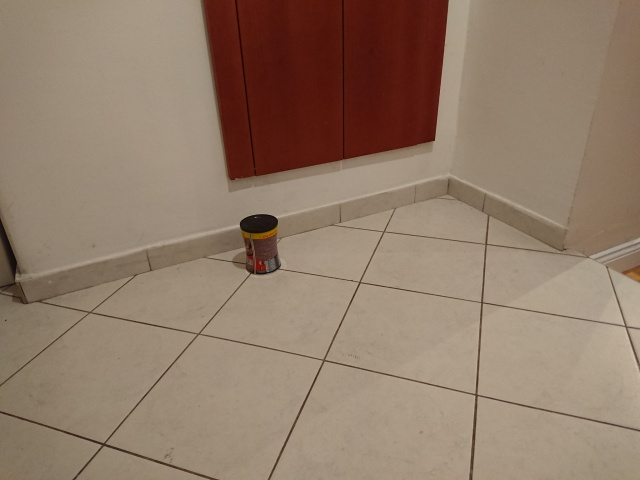Nescafe Classic 225g: (237, 212, 285, 278)
